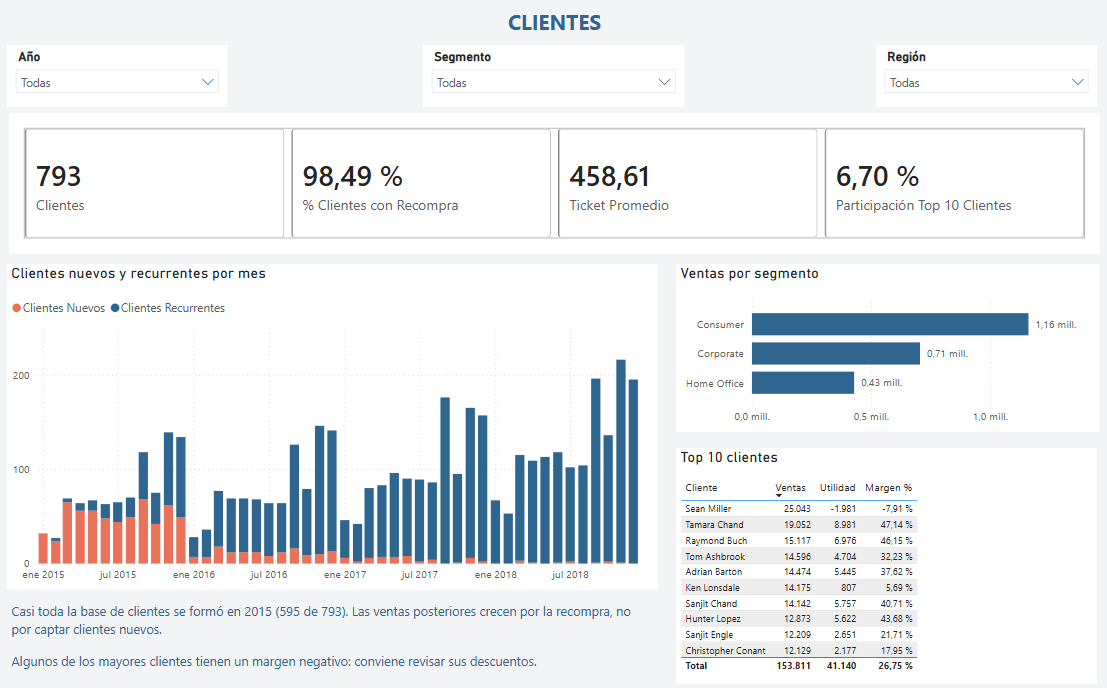

The dashboard page shown, as its layout file describes it:
{"tool":"powerbi","page":{"name":"Clientes","canvas":[1280,800],"ordinal":2},"visuals":[{"type":"slicer","title":"Año","fields":{"Values":["dim_date.year"]},"box":[12.6,56.1,252.8,70.9],"z":0},{"type":"slicer","fields":{"Values":["dim_geography.region"]},"box":[1010,56.2,253.9,70.9],"z":1000},{"type":"slicer","fields":{"Values":["dim_customer.segment"]},"box":[490.1,56.2,299.7,70.9],"z":3000},{"type":"textbox","box":[456.4,8,368.3,48],"z":4000},{"type":"cardVisual","fields":{"Data":["_Medidas.Clientes","_Medidas.% Clientes con Recompra","_Medidas.Ticket Promedio","_Medidas.Participación Top 10 Clientes"]},"box":[14.9,134.3,1252.2,161.8],"z":5000},{"type":"columnChart","title":"Clientes nuevos y recurrentes por mes","fields":{"Category":["dim_date.year_month"],"Y":["_Medidas.Clientes Nuevos","_Medidas.Clientes Recurrentes"]},"box":[12.6,307.6,747.2,374.2],"z":6000},{"type":"clusteredBarChart","title":"Ventas por segmento","fields":{"Category":["dim_customer.segment"],"Y":["_Medidas.Ventas"]},"box":[780.5,307.6,485.5,192.8],"z":7000},{"type":"tableEx","title":"Top 10 clientes","fields":{"Values":["dim_customer.customer_name","_Medidas.Ventas","_Medidas.Utilidad","_Medidas.Margen %"]},"box":[780.5,518.8,483.2,270.9],"z":8000},{"type":"textbox","box":[12.6,691,747.2,98.7],"z":8001}]}

Visuals, with their boxes in screenshot pixels (x1, y1, x2, y2), scaled from the page's 1280x800 canvas onto the 1107x688 screenshot:
"Año" slicer: 11, 48, 230, 109
slicer - dim_geography.region: 873, 48, 1093, 109
slicer - dim_customer.segment: 424, 48, 683, 109
textbox: 395, 7, 713, 48
cardVisual - _Medidas.Clientes x _Medidas.% Clientes con Recompra: 13, 115, 1096, 255
"Clientes nuevos y recurrentes por mes" columnChart: 11, 265, 657, 586
"Ventas por segmento" clusteredBarChart: 675, 265, 1095, 430
"Top 10 clientes" tableEx: 675, 446, 1093, 679
textbox: 11, 594, 657, 679
